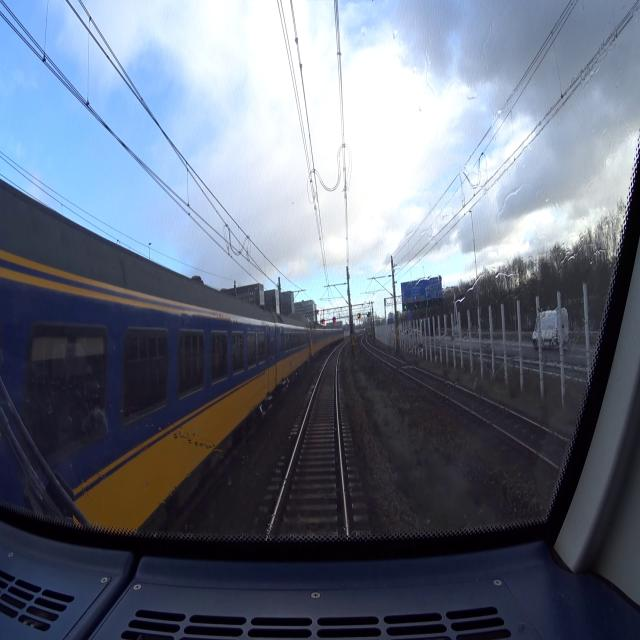rail-track: (378, 353, 567, 464), (270, 348, 345, 539)
